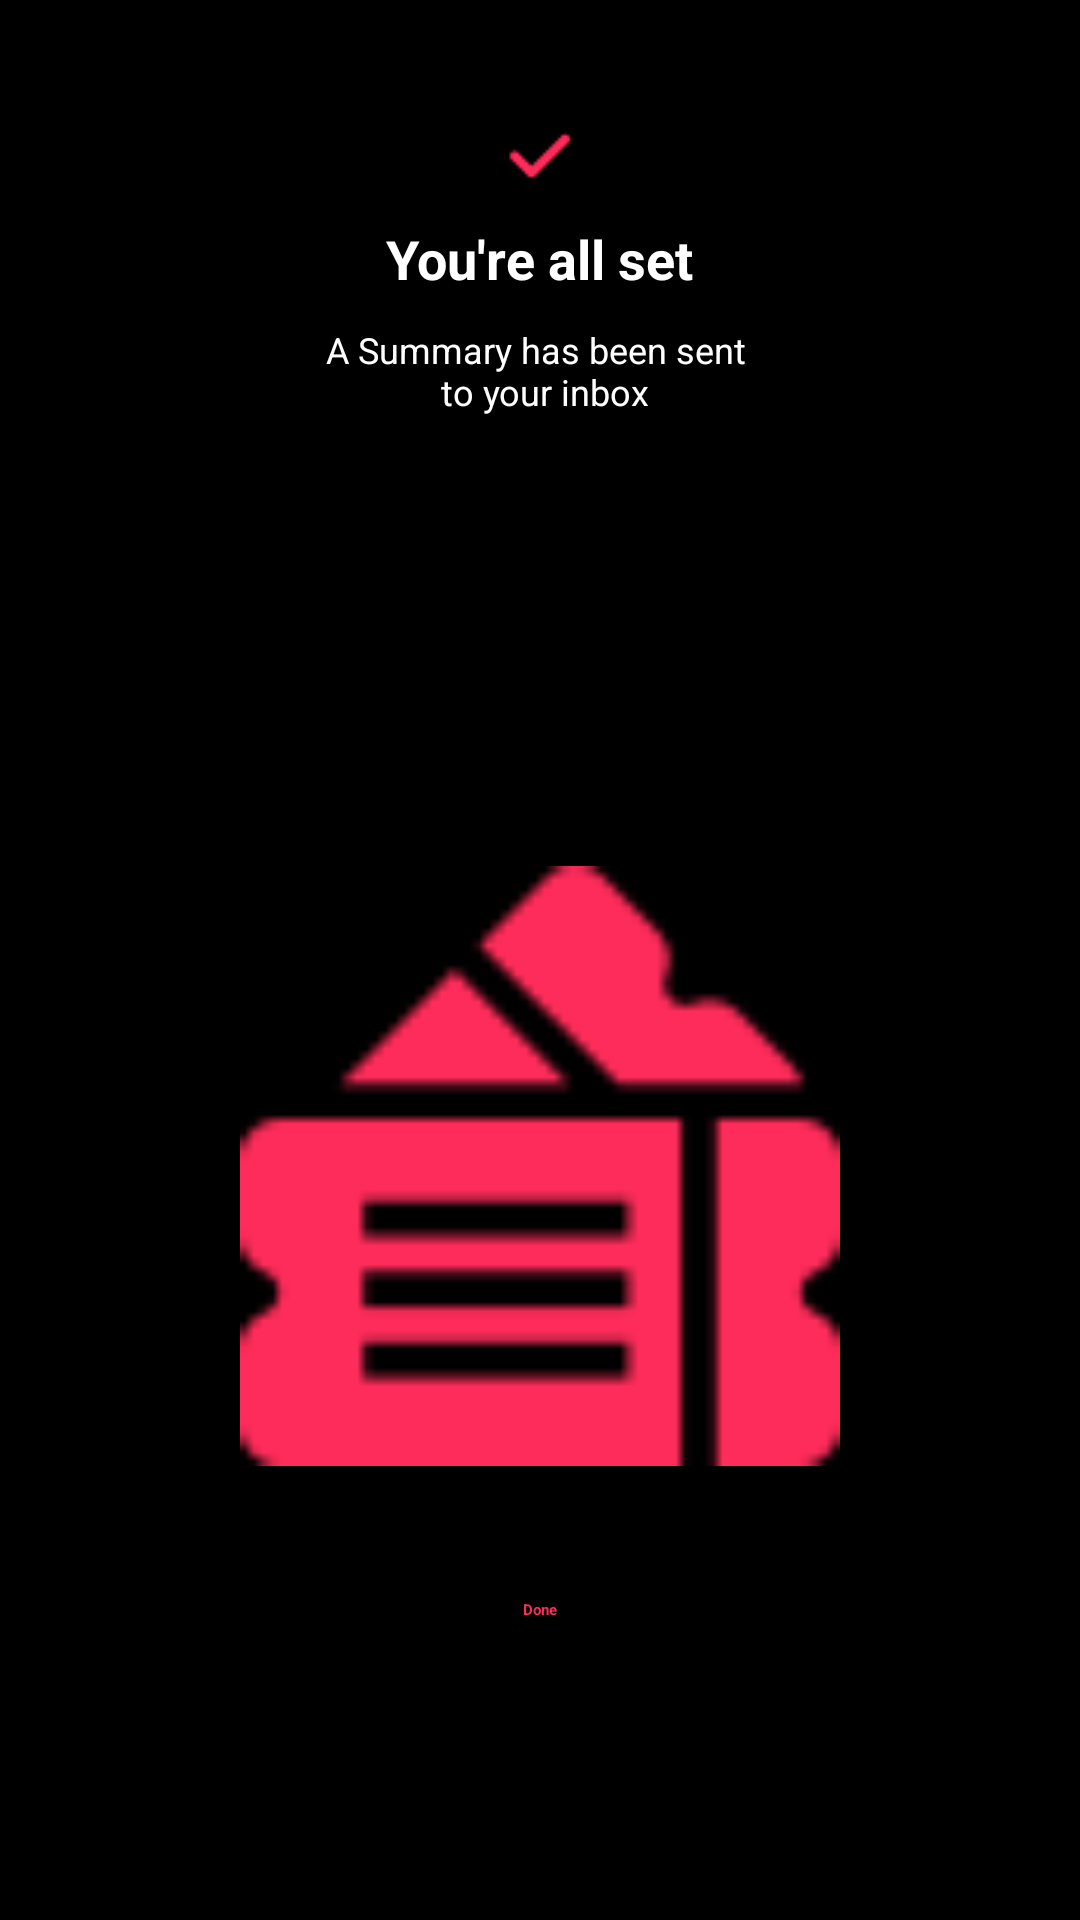

Icons on this 1080×1920 Android screen, each with its box as (x1, y1, x2, y2):
check symbol: (509, 132, 571, 179)
